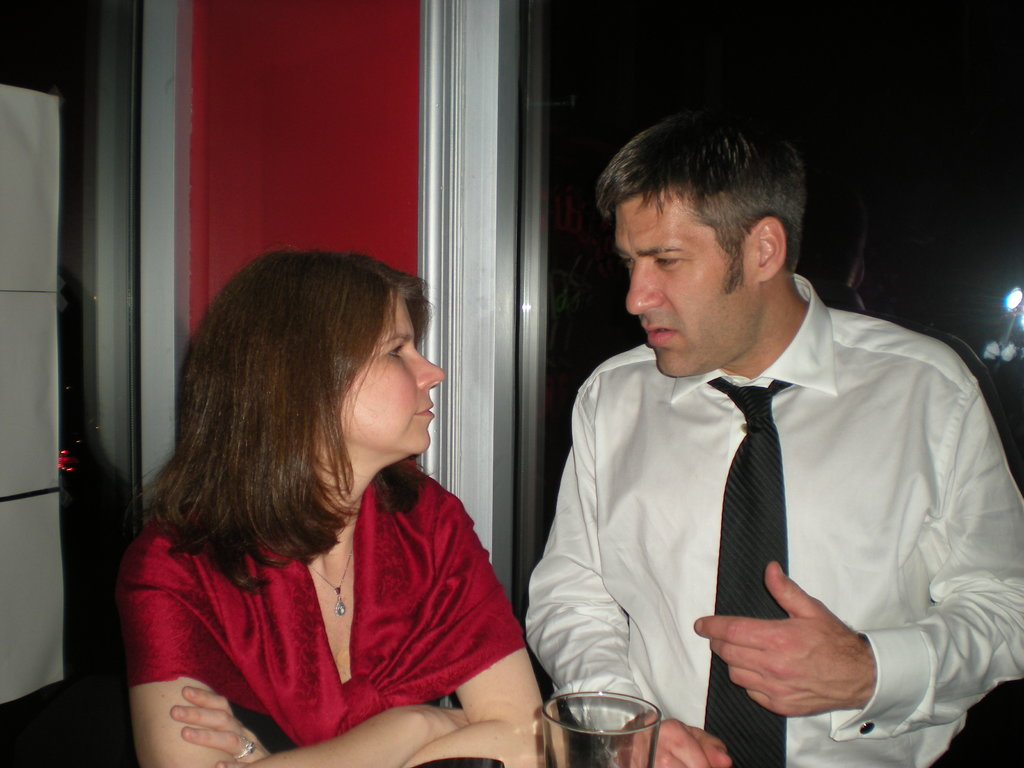Human_hand: (692, 563, 871, 729), (172, 684, 274, 767), (616, 710, 732, 767), (398, 707, 471, 744)
